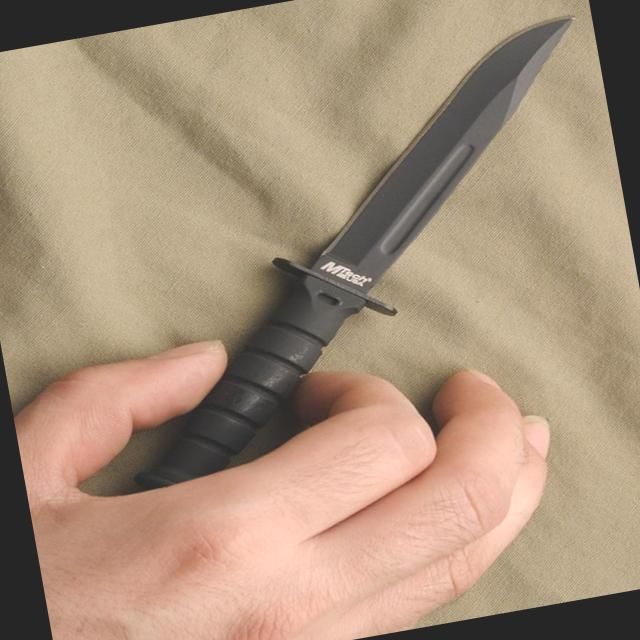knife: (0, 7, 639, 600)
